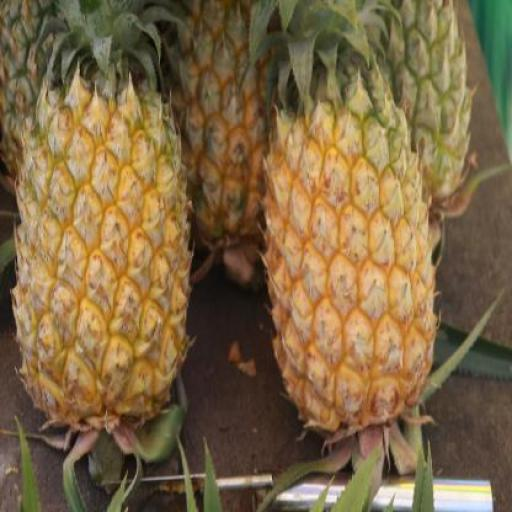Pineapple - v8 v1: (260, 92, 433, 418), (16, 84, 183, 414)
